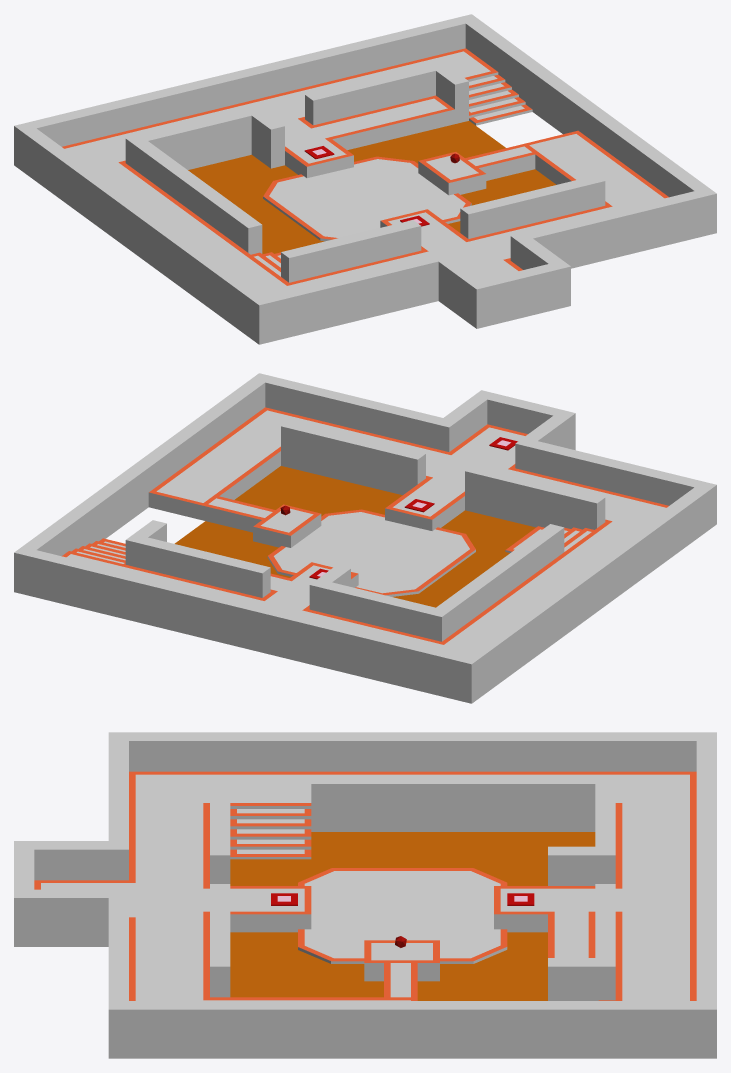
File: map1.fbx
3 views of the same model, one above another, from view 1: azimuth 30°, elevation 25°; view 2: azimuth 150°, elevation 25°; view 3: azimuth 270°, elevation 25° (orthographic). The views are drawn at different scales.
Visible parts, largest first — view 1: Group23, Group5, Group13, Group26, Group33, Group2, Group12, Group29, Group3, Group11, Group6, Group30 (+16 smaller); view 2: Group23, Group5, Group33, Group26, Group13, Group30, Group14, Group28, Group4, Group12, Group2, Group3 (+14 smaller); view 3: Group13, Group33, Group5, Group29, Group28, Group26, Group6, Group23, Group3, Group10, Group16, Group9 (+16 smaller).
Part boxes in pixels (x1,y1,x2,y2): Group23: (14, 14, 479, 170); Group5: (22, 128, 273, 344); Group13: (465, 20, 716, 236); Group26: (263, 156, 471, 241); Group33: (188, 121, 556, 254); Group2: (266, 255, 438, 341); Group12: (525, 191, 702, 268); Group29: (62, 48, 498, 170); Group3: (94, 163, 288, 290); Group11: (468, 260, 570, 328); Group6: (134, 141, 262, 254); Group30: (460, 175, 605, 238); Group23: (14, 546, 479, 703); Group5: (466, 481, 716, 697); Group33: (174, 466, 535, 607); Group26: (267, 509, 475, 596); Group13: (22, 373, 272, 556); Group30: (281, 420, 425, 495); Group14: (148, 431, 280, 520); Group28: (233, 407, 668, 529); Group4: (465, 465, 605, 529); Group12: (265, 376, 442, 448); Group2: (529, 441, 702, 505); Group3: (442, 522, 636, 649); Group13: (108, 1001, 696, 1058); Group33: (230, 832, 595, 1000); Group5: (108, 732, 696, 771); Group29: (615, 771, 696, 1000); Group28: (129, 771, 209, 1000); Group26: (298, 868, 507, 963); Group6: (311, 775, 595, 831); Group23: (696, 732, 716, 1058); Group3: (210, 771, 615, 808); Group10: (34, 889, 128, 946); Group16: (230, 809, 311, 859); Group9: (34, 841, 128, 880).
Size of the model in its own units: 48.5 by 4.96 by 52.
